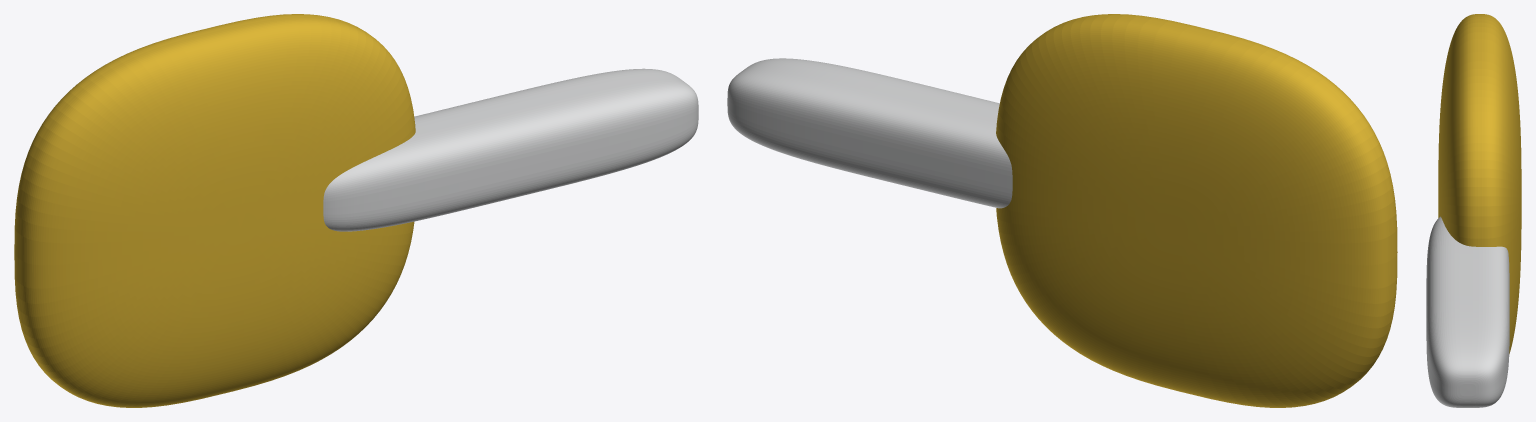
Rendered from black_frying_pan_sq.glb.
3 renders of one model, left to right at view 1: azimuth 30°, elevation 25°; view 2: azimuth 150°, elevation 25°; view 3: azimuth 270°, elevation 25°, orthographic. The views are drawn at different scales.
Parts seen in each view (by area): view 1: superquadric_0, superquadric_1; view 2: superquadric_0, superquadric_1; view 3: superquadric_0, superquadric_1.
Part boxes in pixels (x1,y1,x2,y2): superquadric_0: (14, 14, 415, 407); superquadric_1: (323, 68, 698, 231); superquadric_0: (996, 14, 1397, 407); superquadric_1: (727, 58, 1012, 208); superquadric_0: (1438, 14, 1521, 353); superquadric_1: (1426, 216, 1509, 407).
Bounding box in the file's own units: 1 × 0.5184 × 0.1481.
